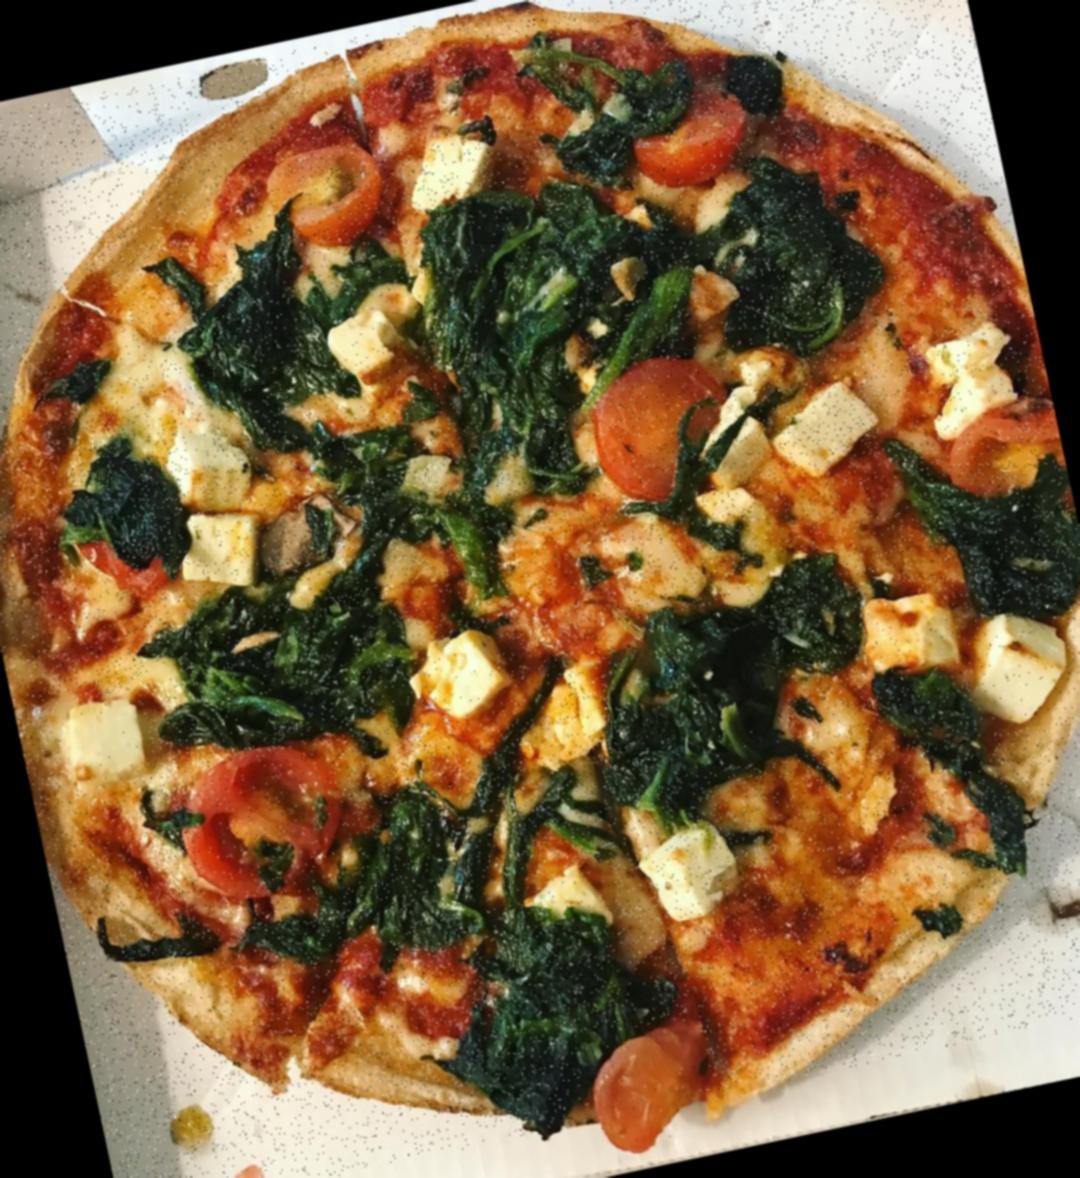Arugula: (611, 593, 797, 787), (425, 208, 581, 425), (195, 600, 397, 740), (729, 190, 856, 341), (956, 483, 1080, 620), (197, 272, 313, 408), (91, 464, 167, 561)
Cheese: (957, 604, 1080, 737), (765, 371, 888, 483), (918, 323, 1026, 441), (631, 820, 745, 928), (319, 301, 431, 409), (403, 628, 518, 727), (859, 583, 967, 688), (168, 502, 276, 601), (53, 689, 157, 791), (154, 420, 260, 519), (397, 122, 507, 217), (695, 394, 785, 494), (520, 862, 620, 941)
Pizza: (0, 0, 1080, 1178)
Tomatoes: (177, 741, 352, 902), (583, 350, 746, 514), (575, 1015, 723, 1160), (262, 138, 398, 261), (626, 81, 760, 198)
